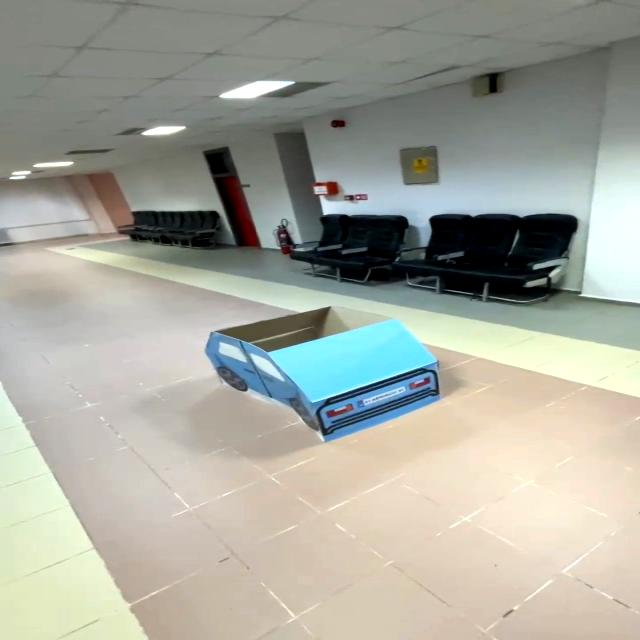blue_car: (185, 293, 464, 459)
